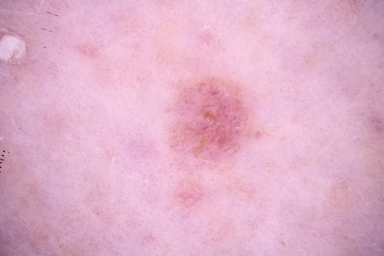seborrheic keratosis: (135, 65, 292, 221)
